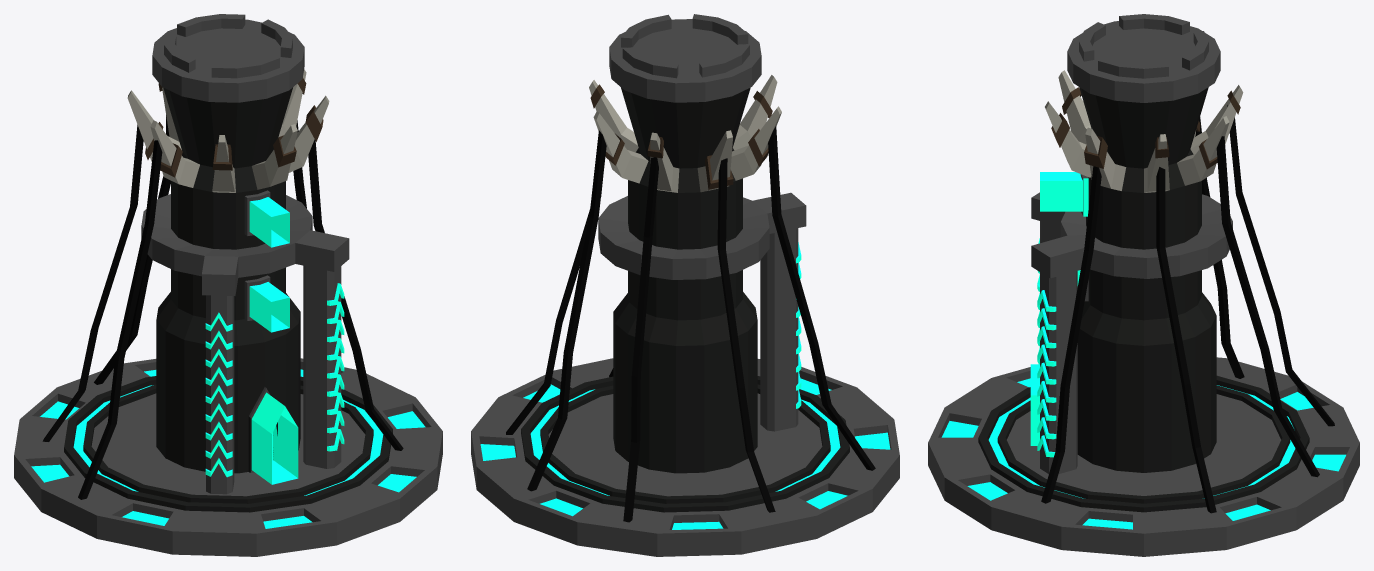
The model's file is Tower1.fbx.
3 renders of one model, left to right at view 1: azimuth 30°, elevation 25°; view 2: azimuth 150°, elevation 25°; view 3: azimuth 270°, elevation 25°, orthographic.
Visible parts, largest first — view 1: Tower1, Cadenas, WindowsBeam; view 2: Tower1, Cadenas; view 3: Tower1, Cadenas, WindowsBeam.
Boxes of the visible parts, x1,y1,x2,y2 form: Tower1: [14, 14, 442, 556]; Cadenas: [42, 115, 403, 499]; WindowsBeam: [249, 197, 298, 484]; Tower1: [471, 14, 899, 556]; Cadenas: [506, 126, 875, 522]; Tower1: [928, 14, 1359, 556]; Cadenas: [1041, 105, 1334, 513]; WindowsBeam: [1030, 172, 1082, 445].
Size of the model in its own units: 400 by 434 by 400.
